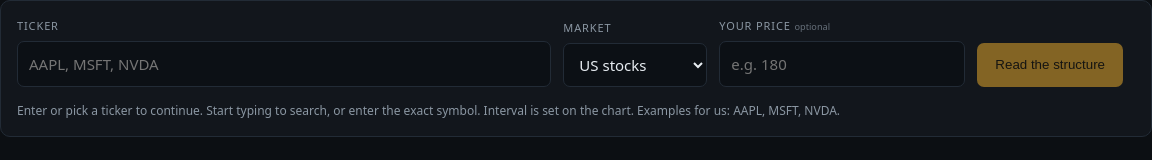
Test case: TickerForm › says NEPSE is daily and experimental when that market is chosen
Select "NEPSE (Nepal)" in the dropdown labelled "Market" at (635, 65), box x1=563 y1=43 x2=707 y2=87
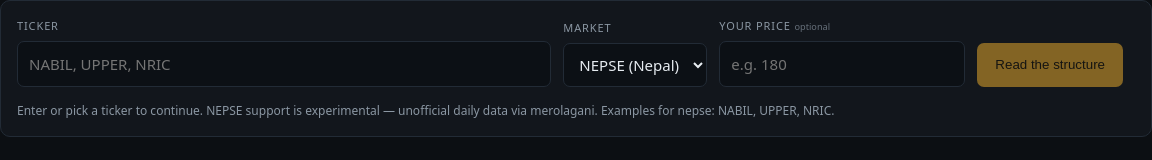
Check: the text "unofficial daily data" is shown, box x1=206 y1=102 x2=601 y2=119
